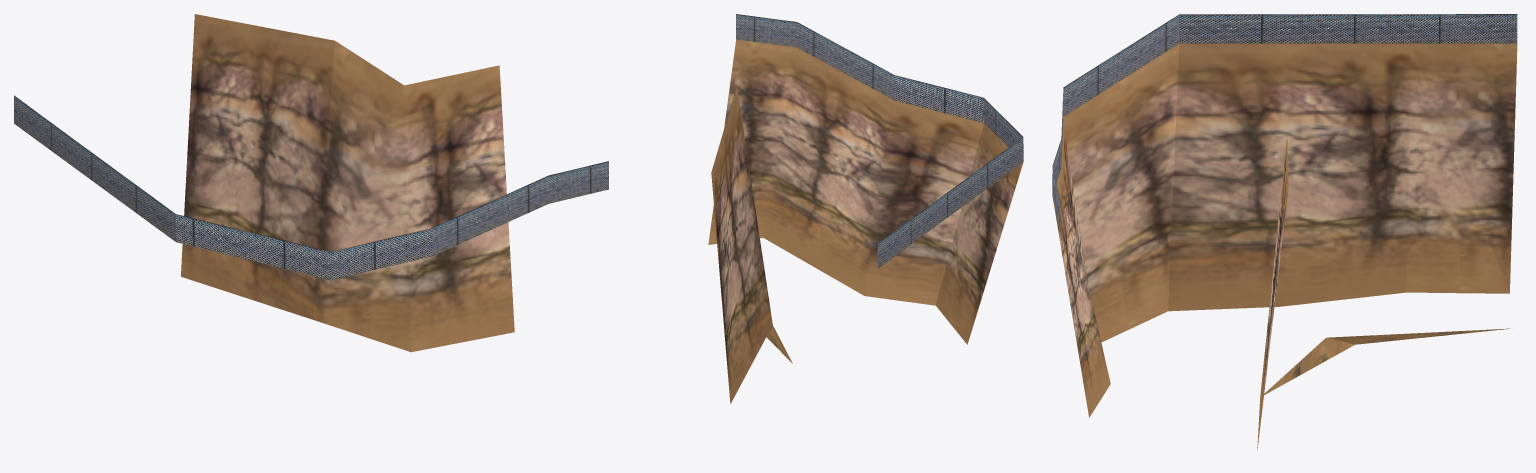
3 renders of one model, left to right at view 1: azimuth 30°, elevation 25°; view 2: azimuth 150°, elevation 25°; view 3: azimuth 270°, elevation 25°, orthographic. The views are drawn at different scales.
Visible parts, largest first — view 1: Object20; view 2: Object20; view 3: Object20.
Boxes of the visible parts, left/top/right/bottom form: Object20: left=14, top=14, right=608, bottom=352; Object20: left=708, top=14, right=1023, bottom=403; Object20: left=1052, top=14, right=1517, bottom=450.
Size of the model in its own units: 6295 by 4840 by 6382.
4 materials, 4 textured.
